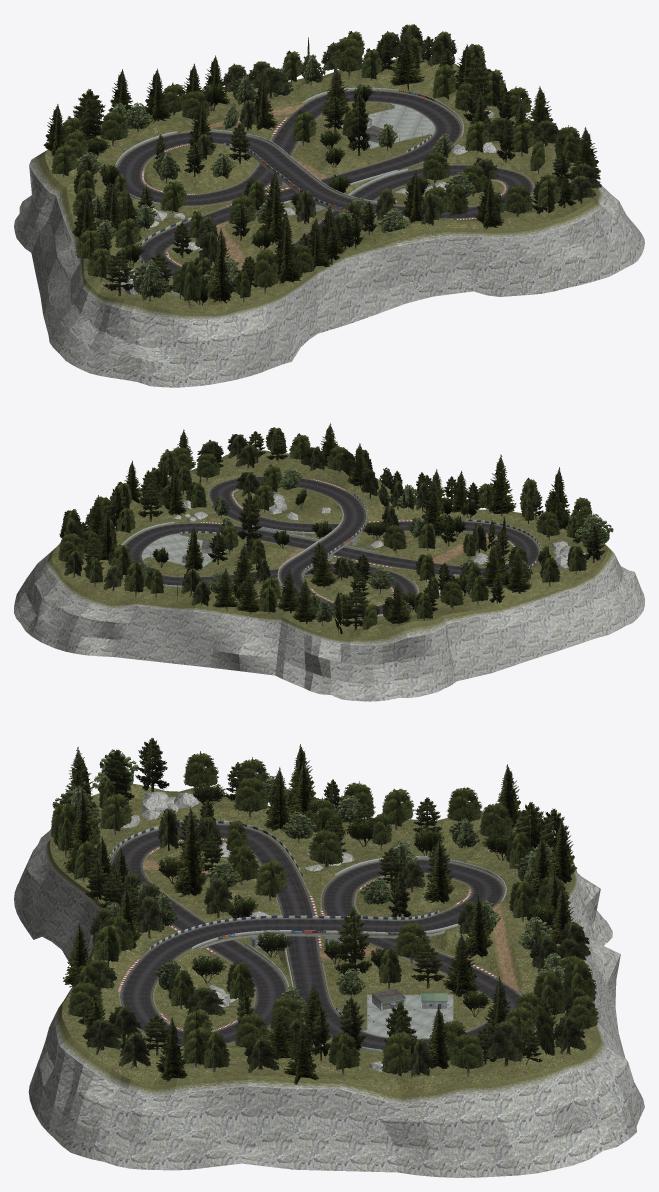
3 renders of one model, top to bottom at view 1: azimuth 30°, elevation 25°; view 2: azimuth 150°, elevation 25°; view 3: azimuth 270°, elevation 25°, orthographic. The views are drawn at different scales.
Visible parts, largest first — view 1: rarui; view 2: rarui; view 3: rarui.
Boxes of the visible parts, box(x1,y1,x2,y2) form: rarui: box(14, 24, 644, 387); rarui: box(14, 423, 644, 701); rarui: box(14, 738, 644, 1177).
Size of the model in its own units: 33454 by 7425 by 25906.
